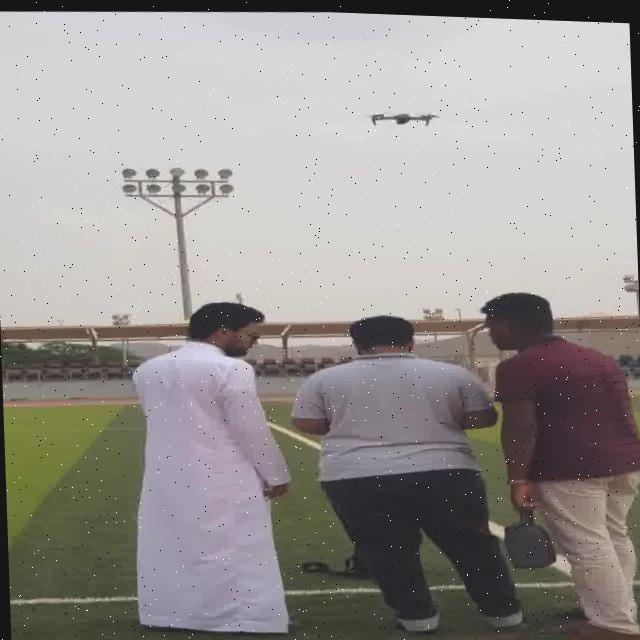drone: (358, 102, 450, 128)
